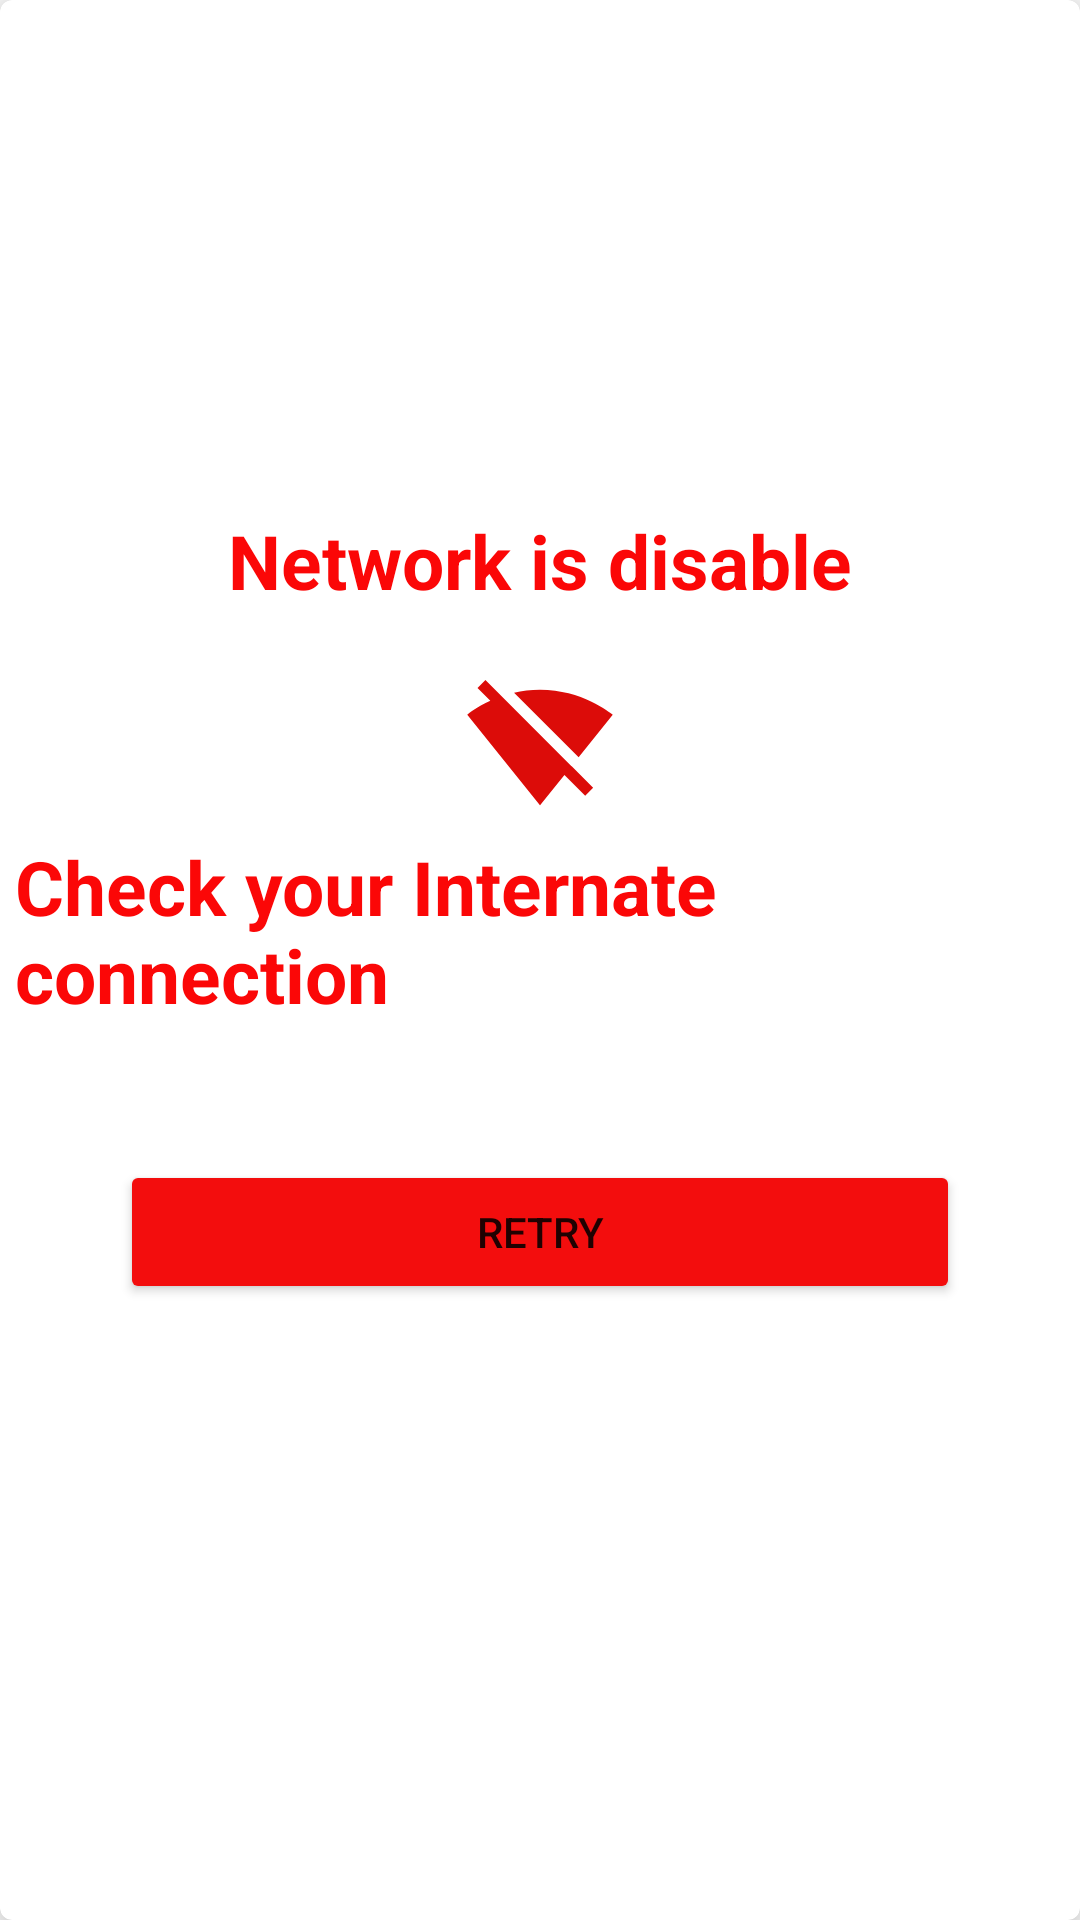

Locate icon controls on the screen. Image size 1080*1920, boxes as (x1, y1, x2, y2).
signal wifi off: (467, 680, 613, 805)
